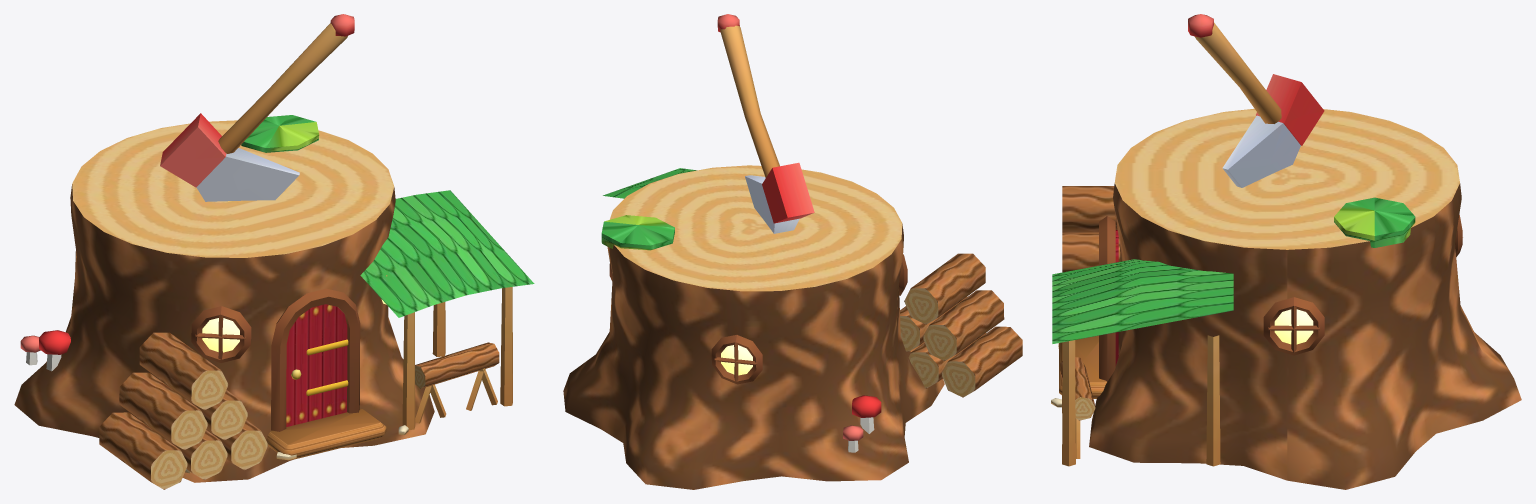
File: lumber.glb
The picture shows the model from 3 angles, left to right: view 1: azimuth 30°, elevation 25°; view 2: azimuth 150°, elevation 25°; view 3: azimuth 270°, elevation 25°; orthographic projection. The views are drawn at different scales.
Parts seen in each view (by area): view 1: lumber; view 2: lumber; view 3: lumber.
Part boxes in pixels (x1=…): lumber: x1=14, y1=14, x2=534, y2=489; lumber: x1=563, y1=14, x2=1022, y2=489; lumber: x1=1051, y1=14, x2=1521, y2=489.
Bounding box in the file's own units: 6.98 × 6.85 × 7.01.
Materials: 4 (4 with a texture image).
